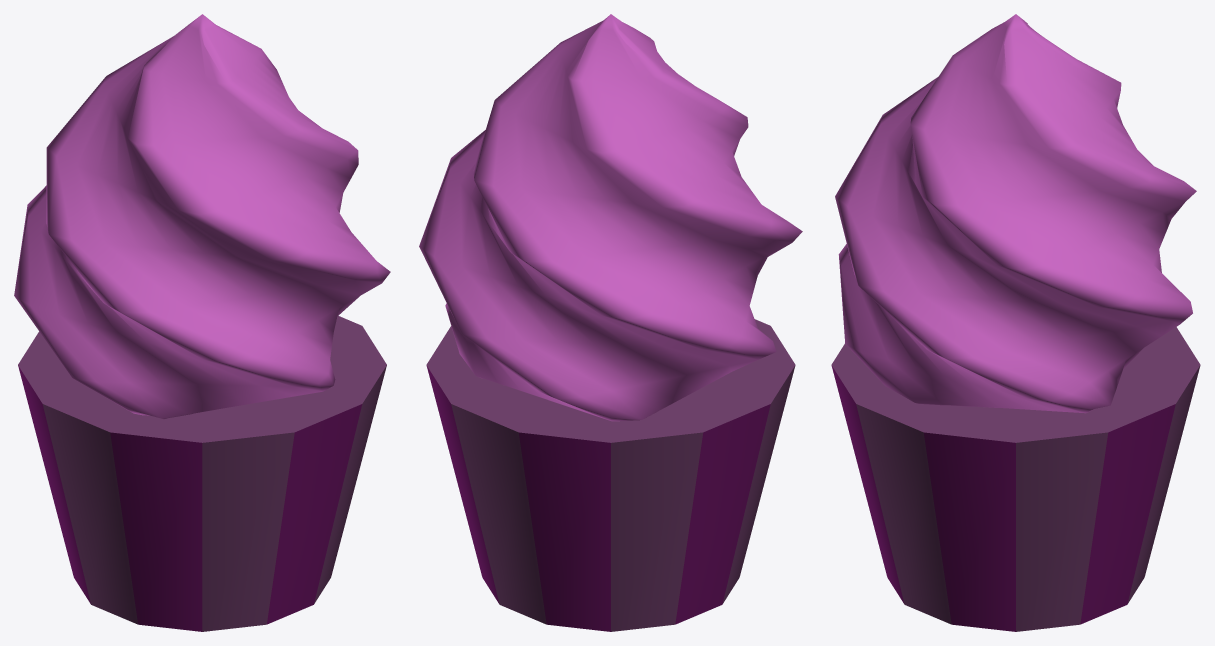
File: 3D_Cupcake.FBX
3 views of the same model, side by side, from view 1: azimuth 30°, elevation 25°; view 2: azimuth 150°, elevation 25°; view 3: azimuth 270°, elevation 25° (orthographic).
Parts seen in each view (by area): view 1: 3D_Cupcake; view 2: 3D_Cupcake; view 3: 3D_Cupcake.
Part boxes in pixels (box(x1,y1,x2,y2)): 3D_Cupcake: box(14, 14, 390, 631); 3D_Cupcake: box(419, 14, 802, 631); 3D_Cupcake: box(831, 14, 1200, 631).
Bounding box in the file's own units: 52.35 × 88.19 × 52.35.
